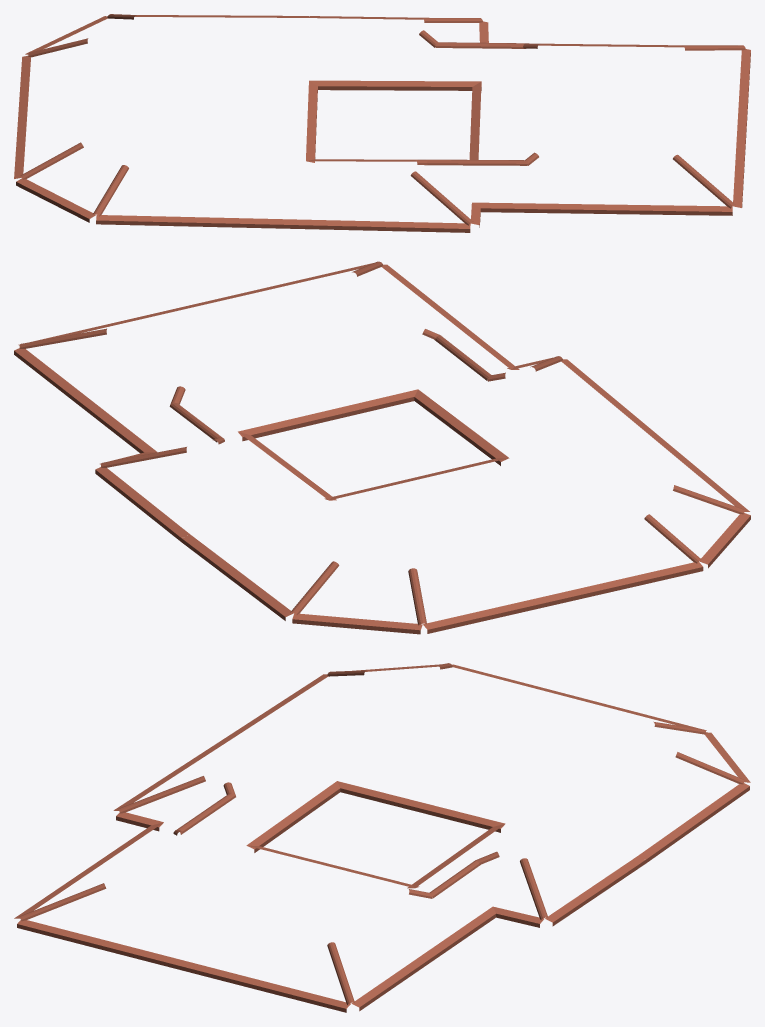
3 renders of one model, top to bottom at view 1: azimuth 30°, elevation 25°; view 2: azimuth 150°, elevation 25°; view 3: azimuth 270°, elevation 25°, orthographic. The views are drawn at different scales.
Visible parts, largest first — view 1: detail; view 2: detail; view 3: detail.
Boxes of the visible parts, left/top/right/bottom form: detail: left=14, top=14, right=750, bottom=232; detail: left=14, top=261, right=750, bottom=634; detail: left=14, top=663, right=750, bottom=1012.
Bounding box in the file's own units: 27.94 × 1.36 × 25.23.
